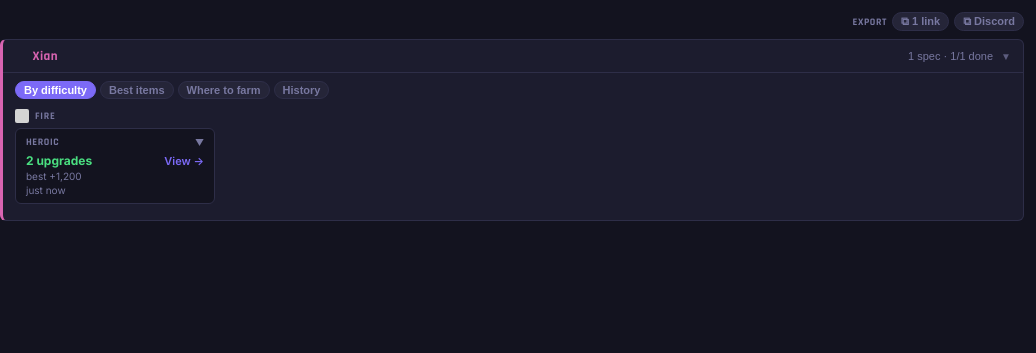
Test case: ResultsPanel › expands a card into bars with source and percent
Click the button with test id "diff-card" at [115, 166], box [15,128,215,204]
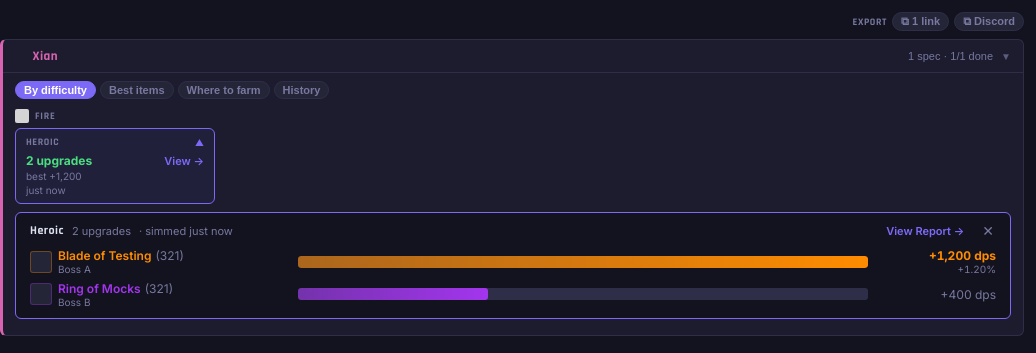
Result: the link "Blade of Testing" is shown at [58,248,152,263]
Result: the text "Boss A" is shown at [58,263,91,275]
Result: the text "+1.20%" is shown at [958,263,996,275]
